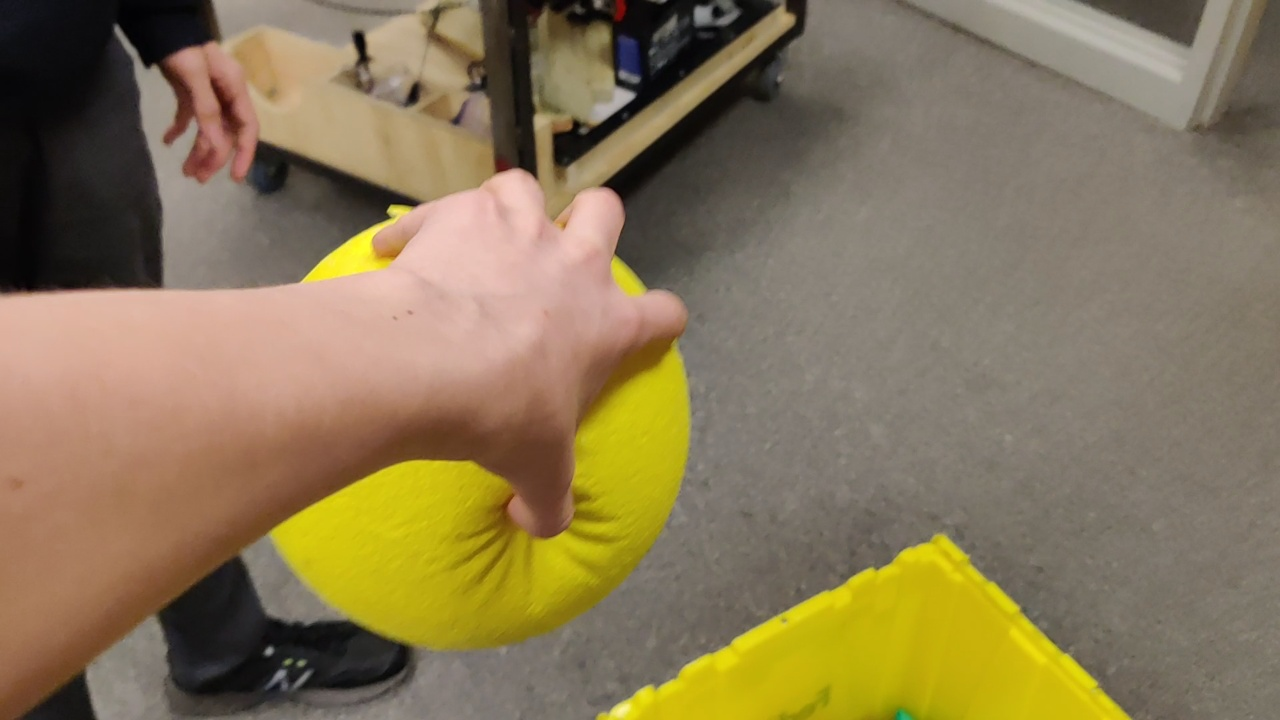Ball: (263, 340, 687, 651)
